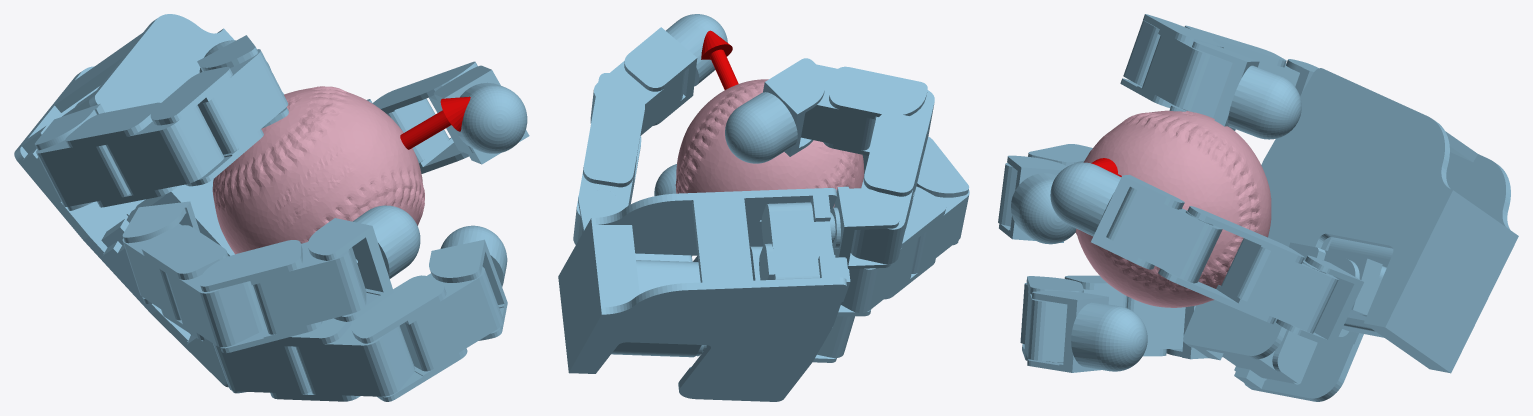
3 renders of one model, left to right at view 1: azimuth 30°, elevation 25°; view 2: azimuth 150°, elevation 25°; view 3: azimuth 270°, elevation 25°, orthographic. The views are drawn at different scales.
Visible parts, largest first — view 1: world, baseball.stl; view 2: world, baseball.stl; view 3: world, baseball.stl.
Part boxes in pixels (left/top/right/bottom): world: left=14, top=14, right=529, bottom=401; baseball.stl: left=212, top=86, right=424, bottom=254; world: left=558, top=14, right=969, bottom=401; baseball.stl: left=675, top=79, right=864, bottom=207; world: left=998, top=14, right=1518, bottom=401; baseball.stl: left=1075, top=110, right=1271, bottom=307.
Size of the model in its own units: 0.1645 by 0.139 by 0.1901.
